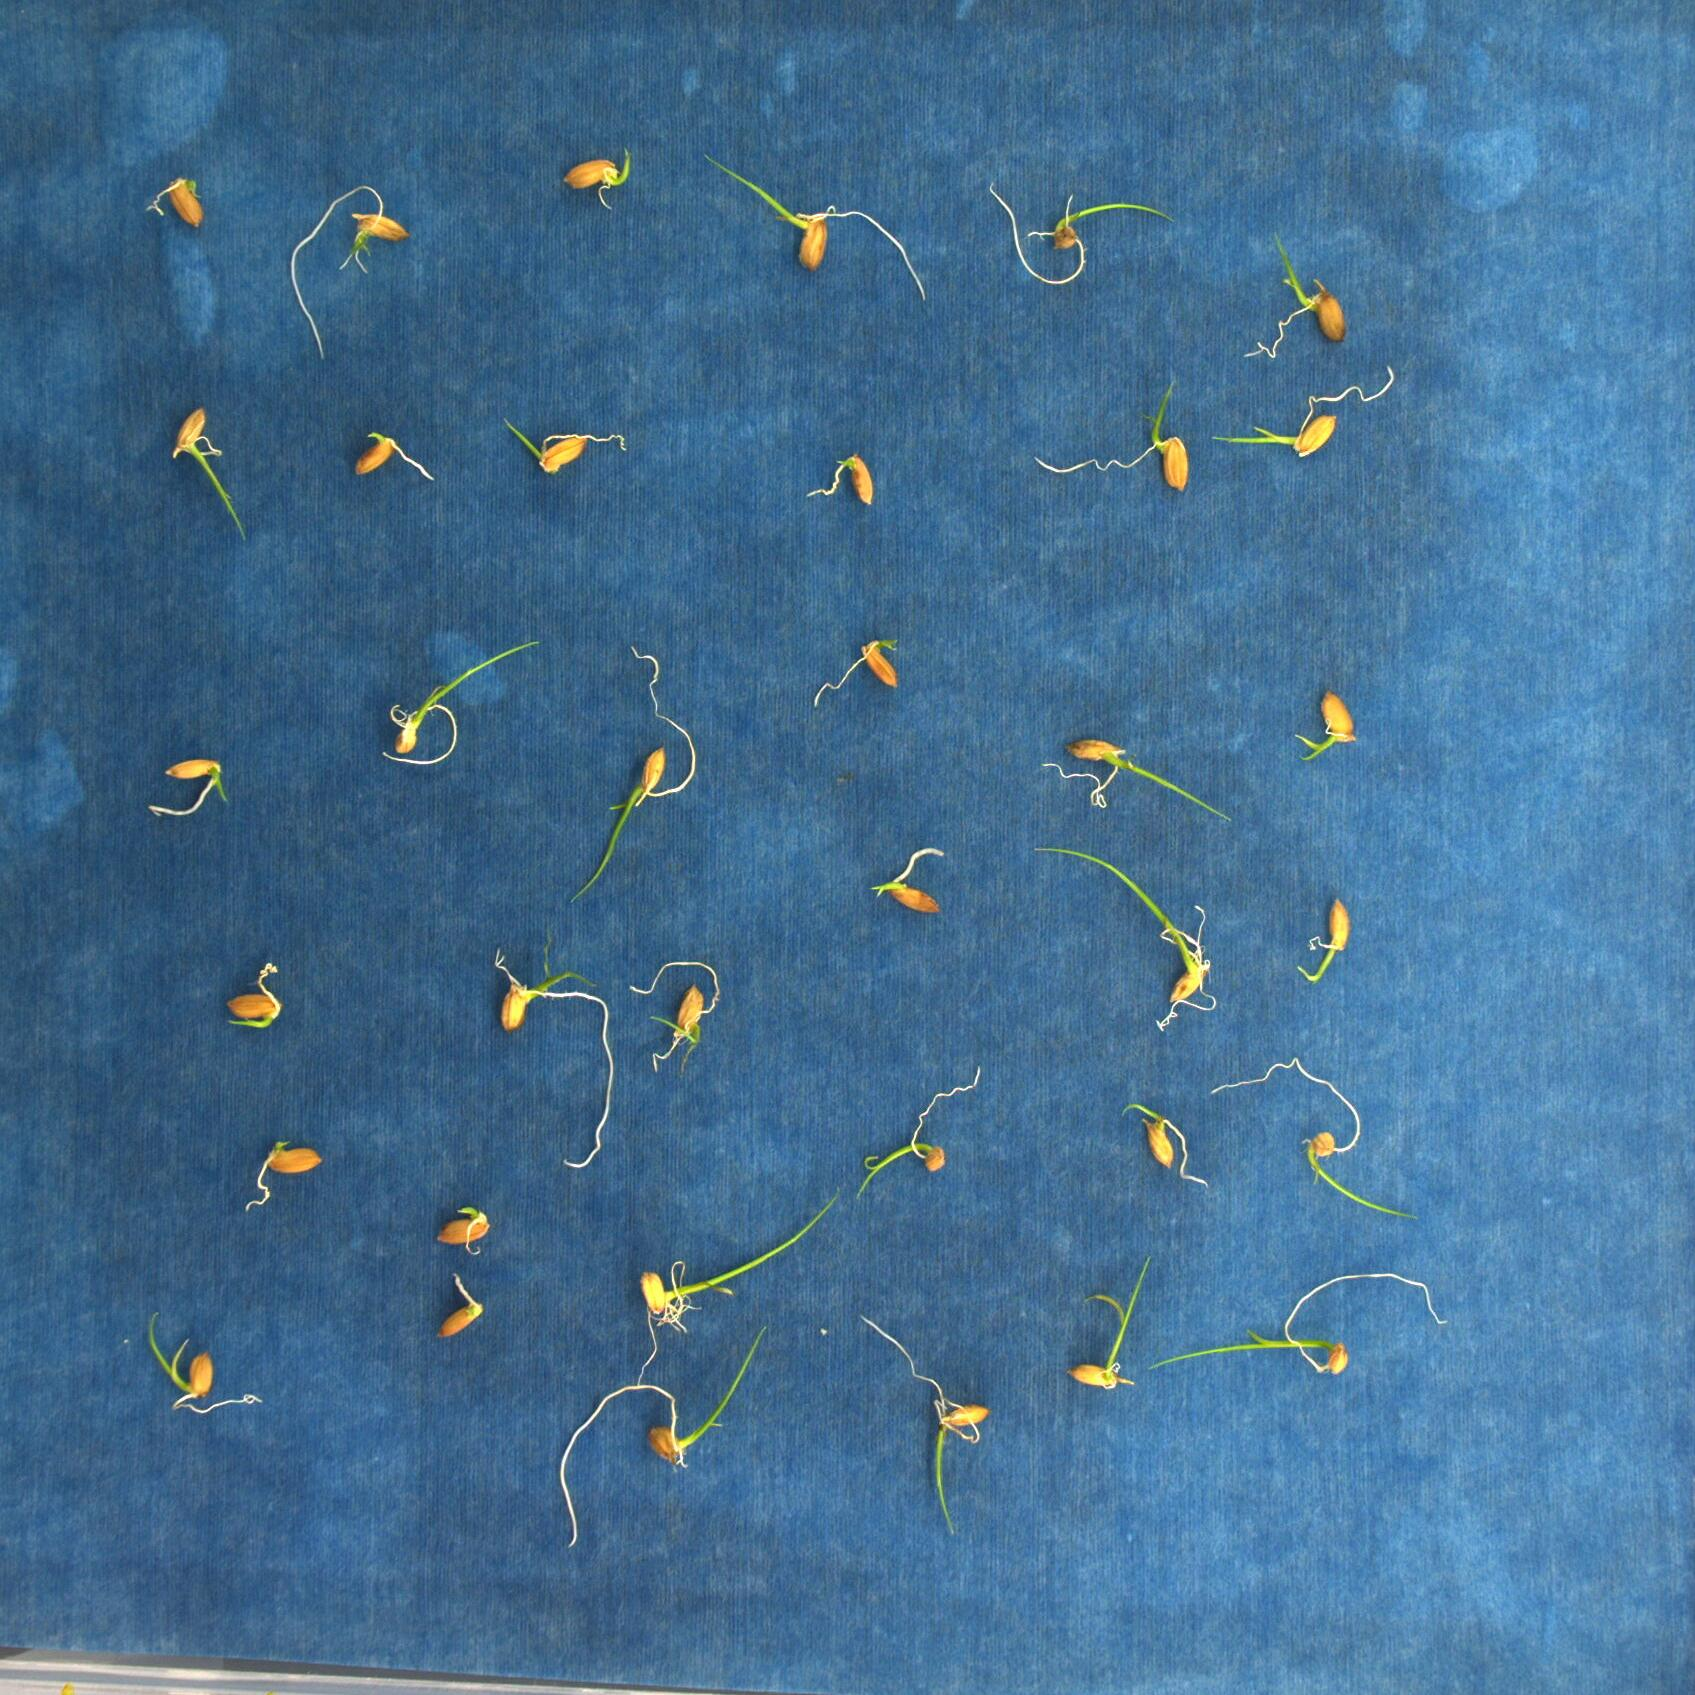not sprout: (804, 627, 914, 702), (865, 843, 959, 925), (349, 421, 435, 497), (255, 1130, 328, 1205), (802, 442, 882, 503), (428, 1277, 487, 1340)
sprout: (543, 1319, 775, 1555), (629, 1181, 854, 1395), (1020, 837, 1229, 1038), (697, 147, 930, 321), (1206, 1043, 1420, 1226), (1144, 1267, 1454, 1392), (567, 643, 706, 900), (855, 1309, 998, 1543), (483, 936, 618, 1178), (276, 171, 428, 369), (975, 169, 1184, 290), (1040, 730, 1243, 841), (380, 636, 542, 771), (1031, 376, 1198, 500), (849, 1062, 986, 1212), (1217, 362, 1399, 466), (129, 1302, 267, 1436), (1246, 227, 1349, 371), (1063, 1246, 1149, 1414), (161, 400, 258, 545), (627, 955, 736, 1074), (1121, 1087, 1212, 1192), (497, 405, 640, 472), (1288, 893, 1366, 989), (553, 140, 647, 217), (141, 750, 237, 826), (213, 955, 293, 1042), (1284, 681, 1369, 761), (421, 1197, 490, 1260), (144, 169, 211, 231)
